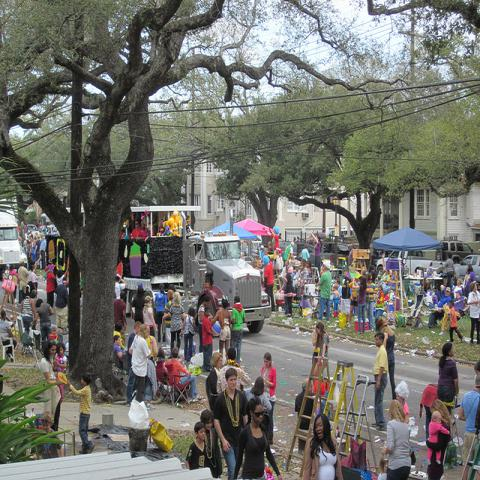car: (442, 239, 479, 265), (453, 256, 479, 287)
truck: (46, 203, 274, 336), (376, 251, 445, 278)
